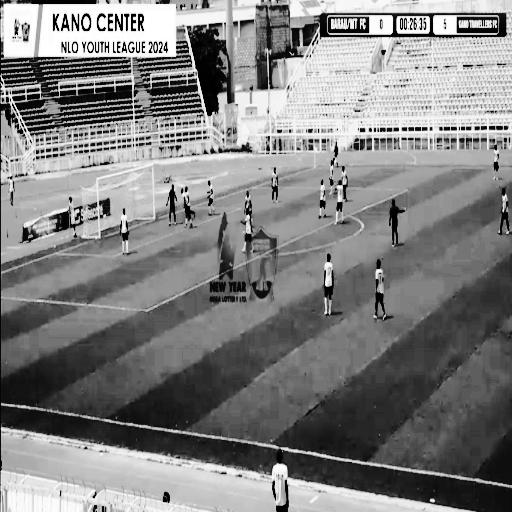ball: (102, 209, 108, 222)
keeper1: (163, 181, 182, 227)
referee: (389, 193, 403, 253), (332, 139, 340, 168)
team1: (317, 250, 335, 320), (238, 204, 257, 258), (119, 206, 132, 268), (334, 178, 347, 233), (203, 176, 219, 219), (315, 177, 331, 220), (184, 185, 196, 229), (492, 139, 502, 185), (327, 158, 335, 192)
team2: (369, 256, 390, 328), (496, 186, 512, 242), (268, 163, 280, 209), (180, 186, 187, 226)
